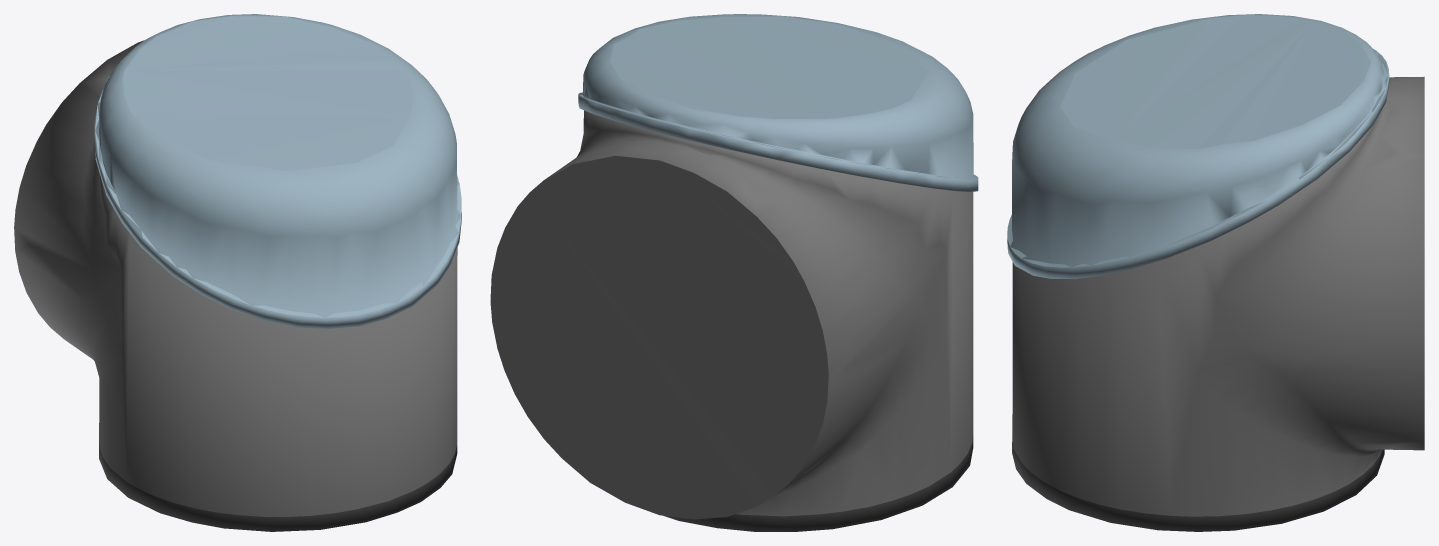
Rendered from Shoulder.dae.
3 renders of one model, left to right at view 1: azimuth 30°, elevation 25°; view 2: azimuth 150°, elevation 25°; view 3: azimuth 270°, elevation 25°, orthographic. The views are drawn at different scales.
Visible parts, largest first — view 1: Actor0, Actor1; view 2: Actor0, Actor1; view 3: Actor0, Actor1.
Part boxes in pixels (<box>): Actor0: <box>14,40,457,531</box>; Actor1: <box>94,14,461,328</box>; Actor0: <box>490,110,973,531</box>; Actor1: <box>578,14,978,191</box>; Actor0: <box>1012,76,1424,531</box>; Actor1: <box>1007,14,1389,279</box>.
Size of the model in its own units: 0.1189 by 0.13 by 0.1338.
